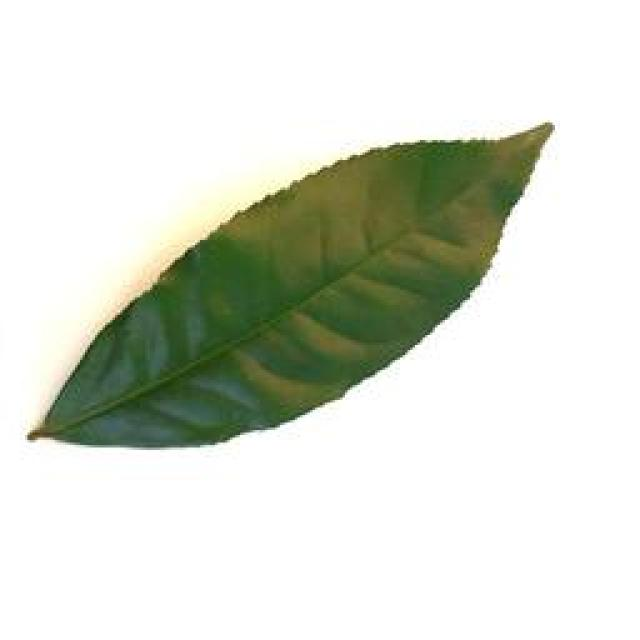Healthy: (22, 114, 554, 453)
